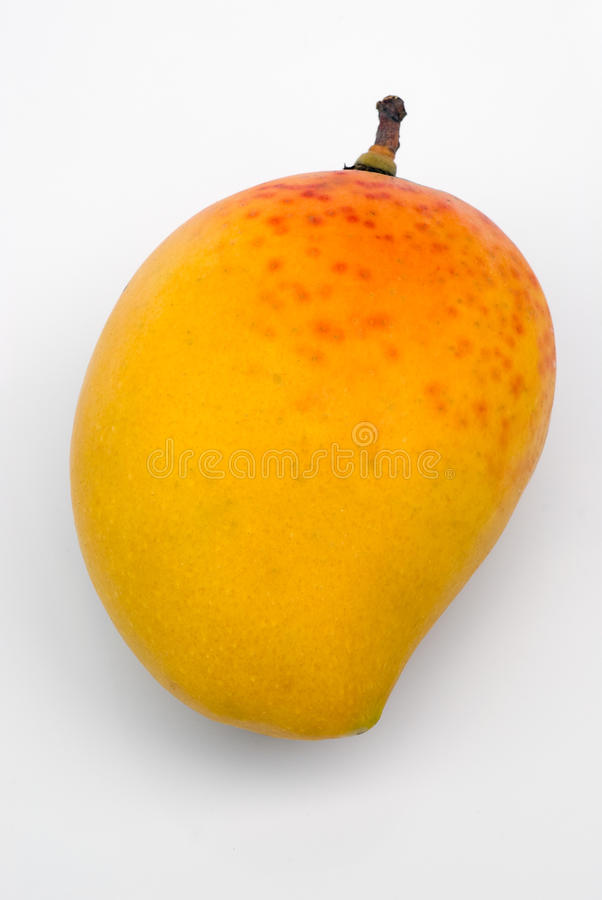mango: (69, 99, 572, 763)
